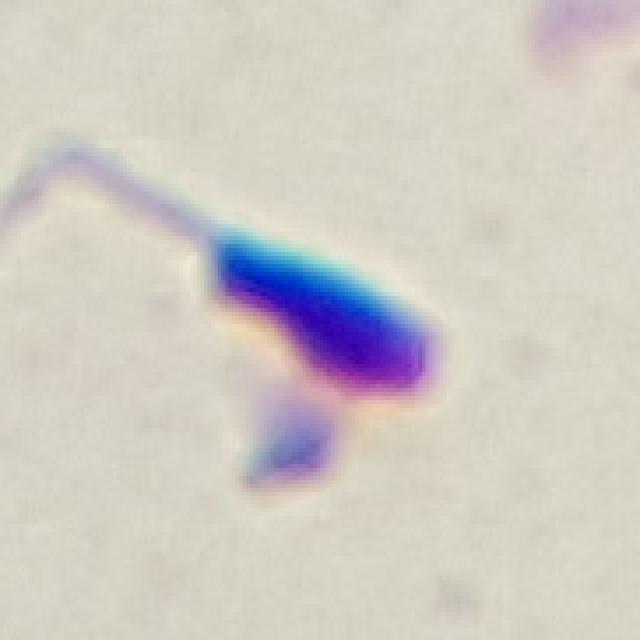abnormal sperm: (86, 194, 446, 426)
